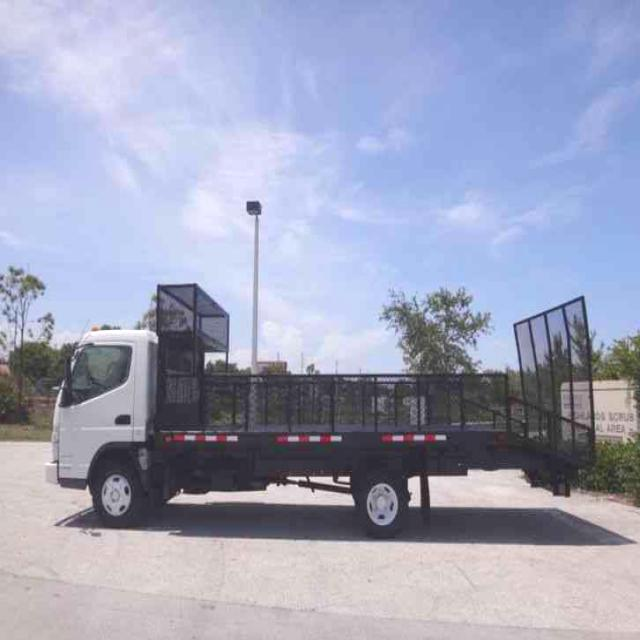truck: (46, 290, 600, 526)
